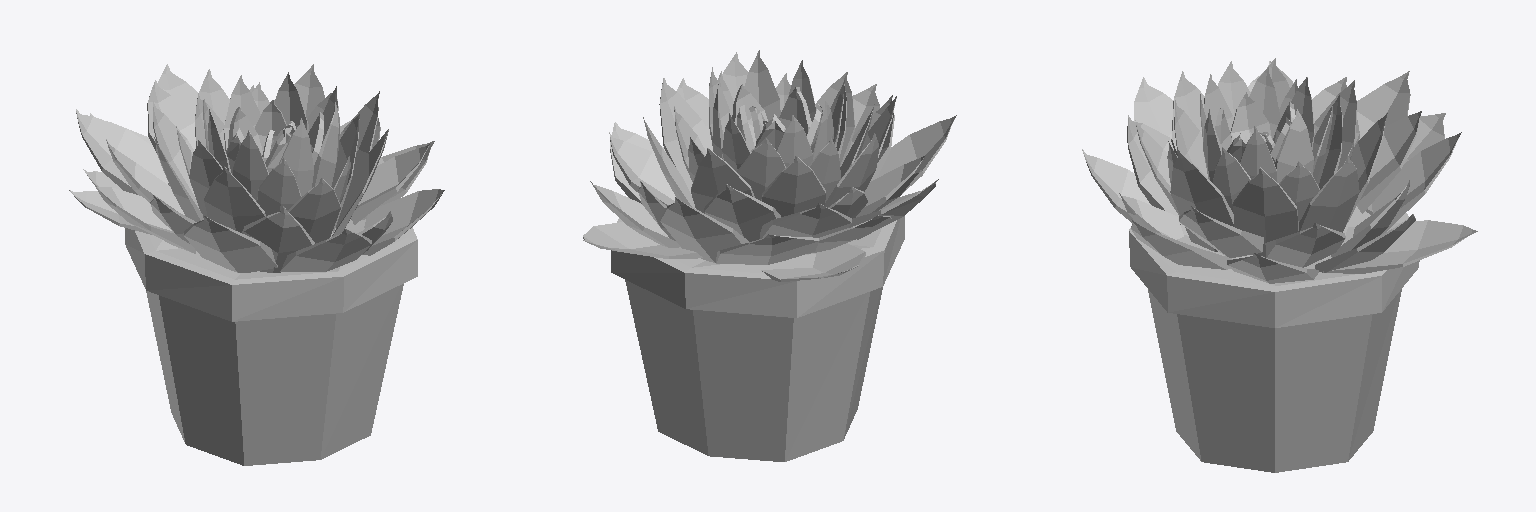
Rendered from pot.obj.
The picture shows the model from 3 angles: view 1: azimuth 30°, elevation 25°; view 2: azimuth 150°, elevation 25°; view 3: azimuth 270°, elevation 25°; orthographic projection.
Visible parts, largest first — view 1: pCube48_Mesh.001; view 2: pCube48_Mesh.001; view 3: pCube48_Mesh.001.
Boxes of the visible parts, box(x1,y1,x2,y2) form: pCube48_Mesh.001: box(69, 64, 444, 465); pCube48_Mesh.001: box(583, 50, 956, 461); pCube48_Mesh.001: box(1082, 58, 1477, 472).
Bounding box in the file's own units: 0.9451 × 0.9202 × 0.9755.